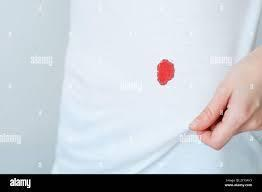blood: (156, 58, 175, 86)
